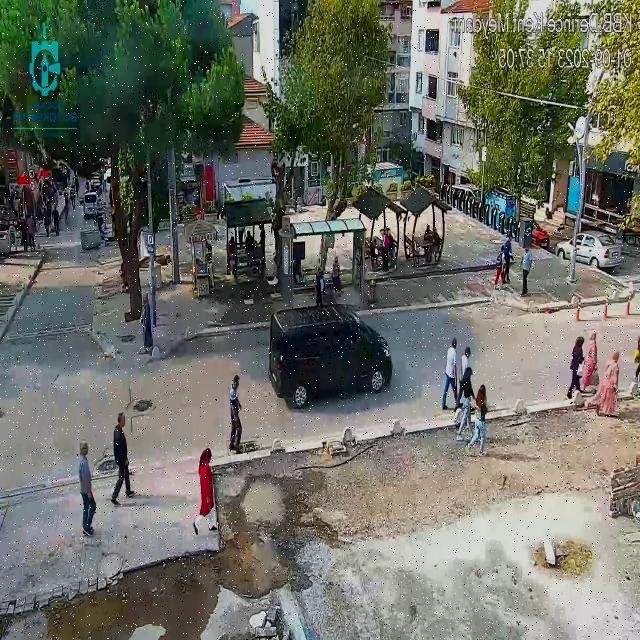Car: (555, 229, 624, 272), (524, 219, 549, 252)
Van: (268, 303, 395, 408), (81, 191, 99, 218)
